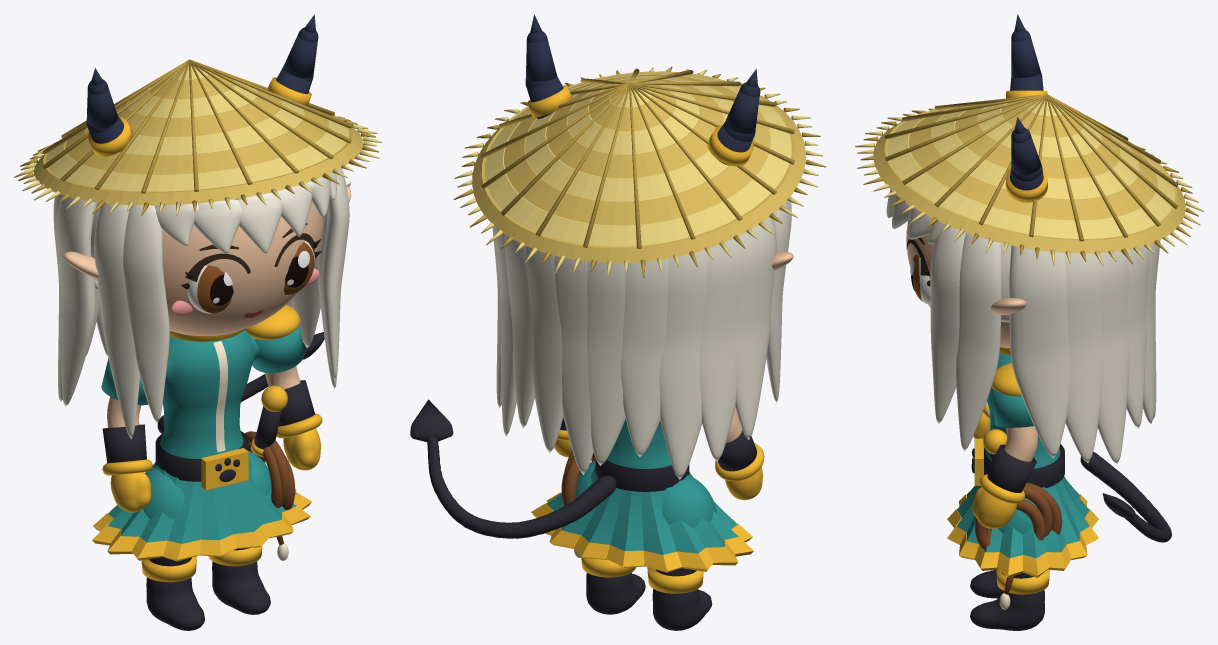
The model's file is feminin-osa.glb.
The picture shows the model from 3 angles, left to right: view 1: azimuth 30°, elevation 25°; view 2: azimuth 150°, elevation 25°; view 3: azimuth 270°, elevation 25°; orthographic projection. The views are drawn at different scales.
Visible parts, largest first — view 1: meches, crane, tunique, jupe, cone, cone_bord, cone.001, jupe_ourlet, cone.002, cone.003, botte, botte.001 (+39 smaller); view 2: meches, cone, cone_bord, cone.001, jupe, cone.002, cone.003, queue, jupe_ourlet, cone.004, botte, botte.001 (+22 smaller); view 3: meches, cone, cone.001, cone_bord, cone.002, jupe, jupe_ourlet, cone.003, queue, botte.001, cone.004, mitaine.001 (+28 smaller).
Part boxes in pixels (box(x1,y1,x2,y2)): meches: box(53, 168, 349, 438); crane: box(162, 202, 323, 335); tunique: box(160, 330, 259, 458); jupe: box(108, 455, 296, 543); cone: box(46, 119, 349, 191); cone_bord: box(34, 115, 363, 205); cone.001: box(65, 109, 328, 174); jupe_ourlet: box(92, 489, 311, 561); cone.002: box(86, 99, 304, 155); cone.003: box(115, 90, 281, 136); botte: box(146, 577, 204, 630); botte.001: box(212, 561, 270, 614); meches: box(492, 200, 791, 479); cone: box(484, 73, 791, 246); cone_bord: box(472, 71, 805, 262); cone.001: box(504, 74, 770, 225); jupe: box(546, 464, 737, 554); cone.002: box(525, 76, 733, 201); cone.003: box(546, 78, 723, 178); queue: box(427, 436, 616, 538); jupe_ourlet: box(531, 492, 753, 572); cone.004: box(567, 80, 699, 154); botte: box(652, 589, 712, 630); botte.001: box(586, 572, 645, 614); meches: box(886, 189, 1160, 464); cone: box(887, 107, 1174, 238); cone.001: box(908, 105, 1157, 220); cone_bord: box(873, 109, 1185, 253); cone.002: box(931, 104, 1139, 199); jupe: box(957, 476, 1089, 558); jupe_ourlet: box(947, 493, 1098, 577); cone.003: box(955, 106, 1120, 178); queue: box(1080, 452, 1171, 542); botte.001: box(970, 590, 1044, 630); cone.004: box(978, 103, 1101, 157); mitaine.001: box(987, 444, 1036, 492).
Size of the model in its own units: 2.04 by 3.32 by 1.92.
